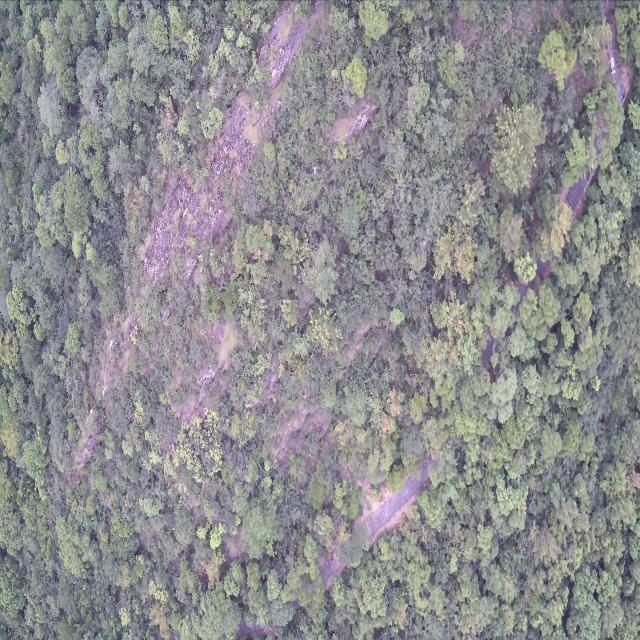drone: (311, 166, 318, 176)
